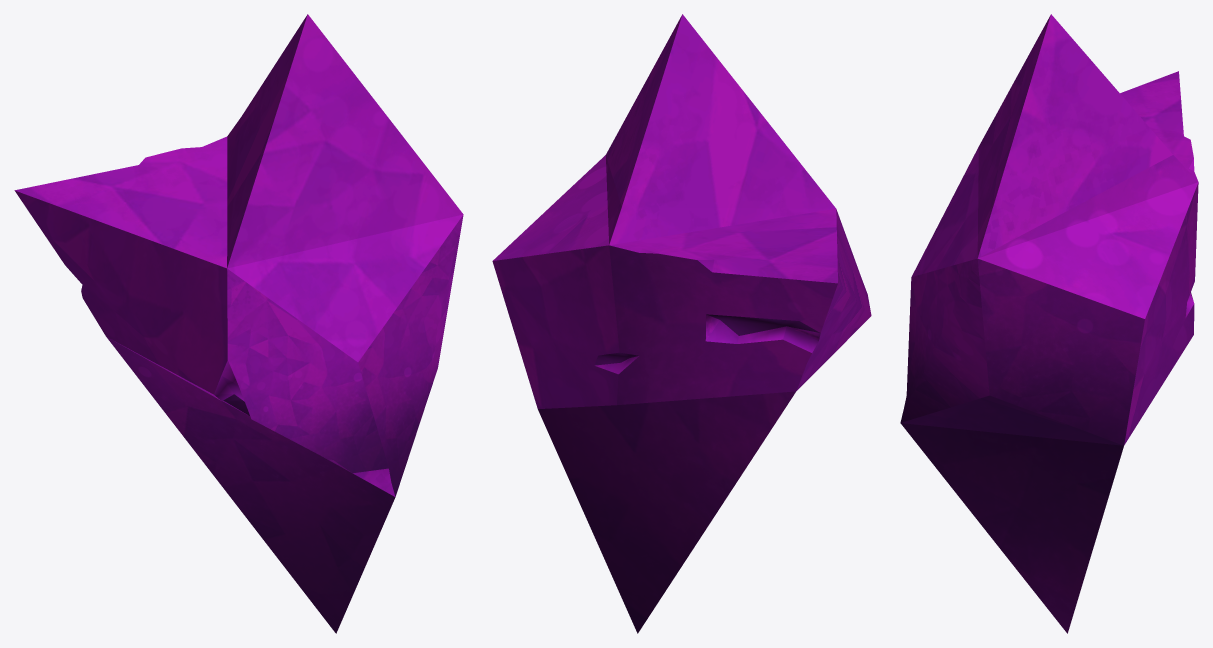
The model's file is P_CRYSTAL 2.fbx.
3 renders of one model, left to right at view 1: azimuth 30°, elevation 25°; view 2: azimuth 150°, elevation 25°; view 3: azimuth 270°, elevation 25°, orthographic. The views are drawn at different scales.
Parts seen in each view (by area): view 1: Crystal_02; view 2: Crystal_02; view 3: Crystal_02.
Part boxes in pixels (x1,y1,x2,y2): Crystal_02: (14, 14, 463, 633); Crystal_02: (492, 14, 871, 633); Crystal_02: (900, 14, 1198, 633).
Size of the model in its own units: 117 by 191 by 85.65.
